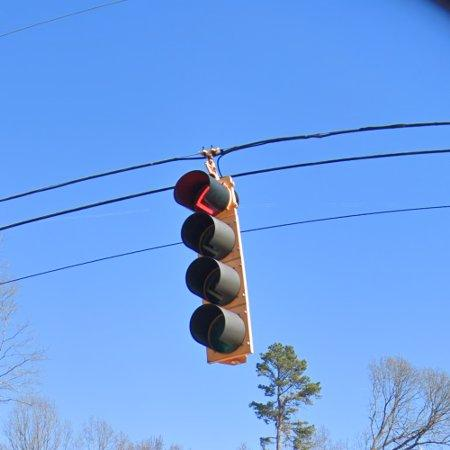traffic lights: (174, 149, 253, 364)
